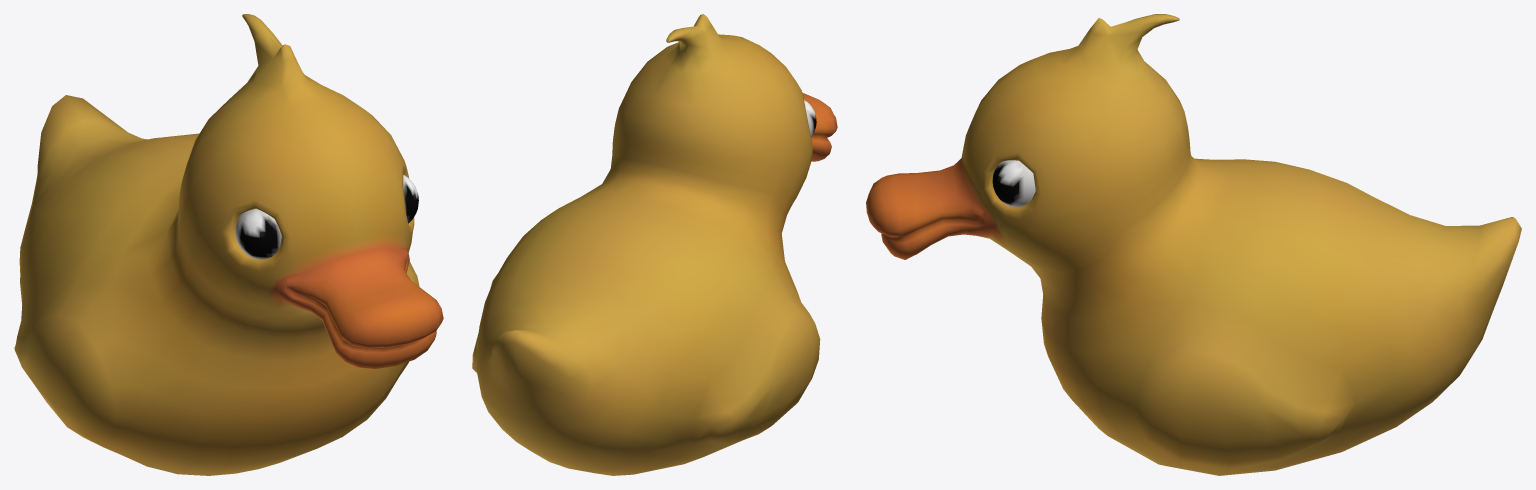
Rendered from Duck.fbx.
The picture shows the model from 3 angles, left to right: view 1: azimuth 30°, elevation 25°; view 2: azimuth 150°, elevation 25°; view 3: azimuth 270°, elevation 25°; orthographic projection. The views are drawn at different scales.
Visible parts, largest first — view 1: duck_low, eyes_low; view 2: duck_low; view 3: duck_low, eyes_low.
Part boxes in pixels (bbox=[...]): duck_low: bbox=[14, 14, 443, 475]; eyes_low: bbox=[235, 174, 418, 259]; duck_low: bbox=[472, 14, 837, 475]; duck_low: bbox=[866, 14, 1521, 475]; eyes_low: bbox=[992, 160, 1035, 207].
Size of the model in its own units: 117 by 147 by 198.
